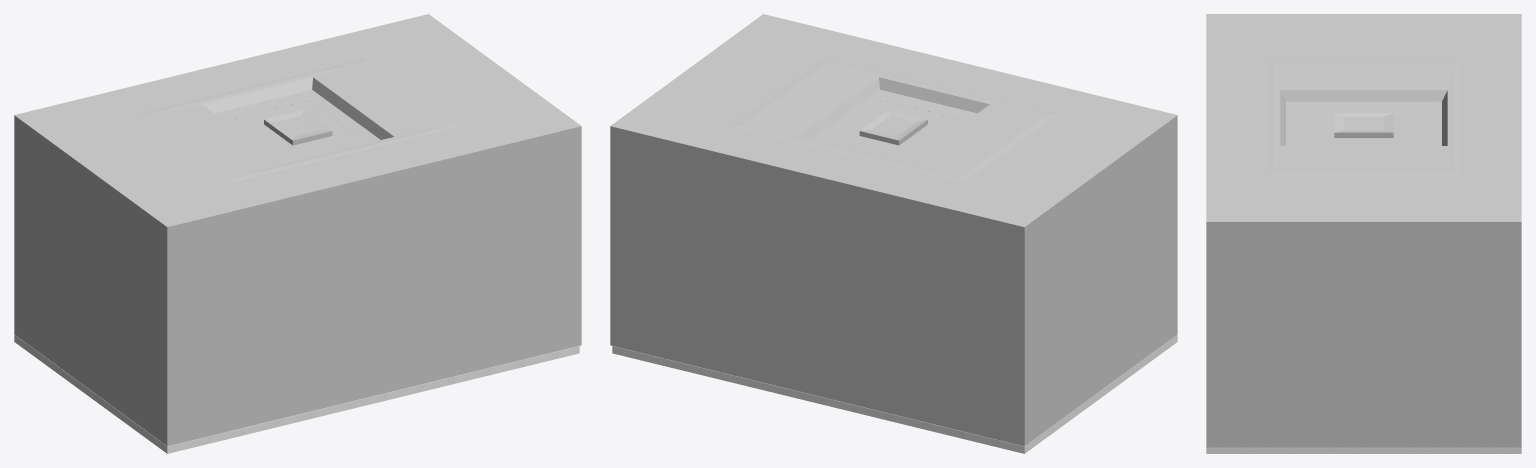
The model's file is TEORInoLIGHT.fbx.
3 views of the same model, side by side, from view 1: azimuth 30°, elevation 25°; view 2: azimuth 150°, elevation 25°; view 3: azimuth 270°, elevation 25° (orthographic). The views are drawn at different scales.
Visible parts, largest first — view 1: DindingTeori, Lantai.Teori; view 2: DindingTeori, Lantai.Teori; view 3: DindingTeori, Lantai.Teori.
Boxes of the visible parts, x1=… form: DindingTeori: x1=14, y1=14, x2=581, y2=446; Lantai.Teori: x1=14, y1=334, x2=579, y2=453; DindingTeori: x1=610, y1=14, x2=1177, y2=446; Lantai.Teori: x1=612, y1=334, x2=1177, y2=453; DindingTeori: x1=1206, y1=14, x2=1521, y2=447; Lantai.Teori: x1=1206, y1=447, x2=1521, y2=453.
Size of the model in its own units: 594 by 311 by 380.
39 materials, 7 textured.
